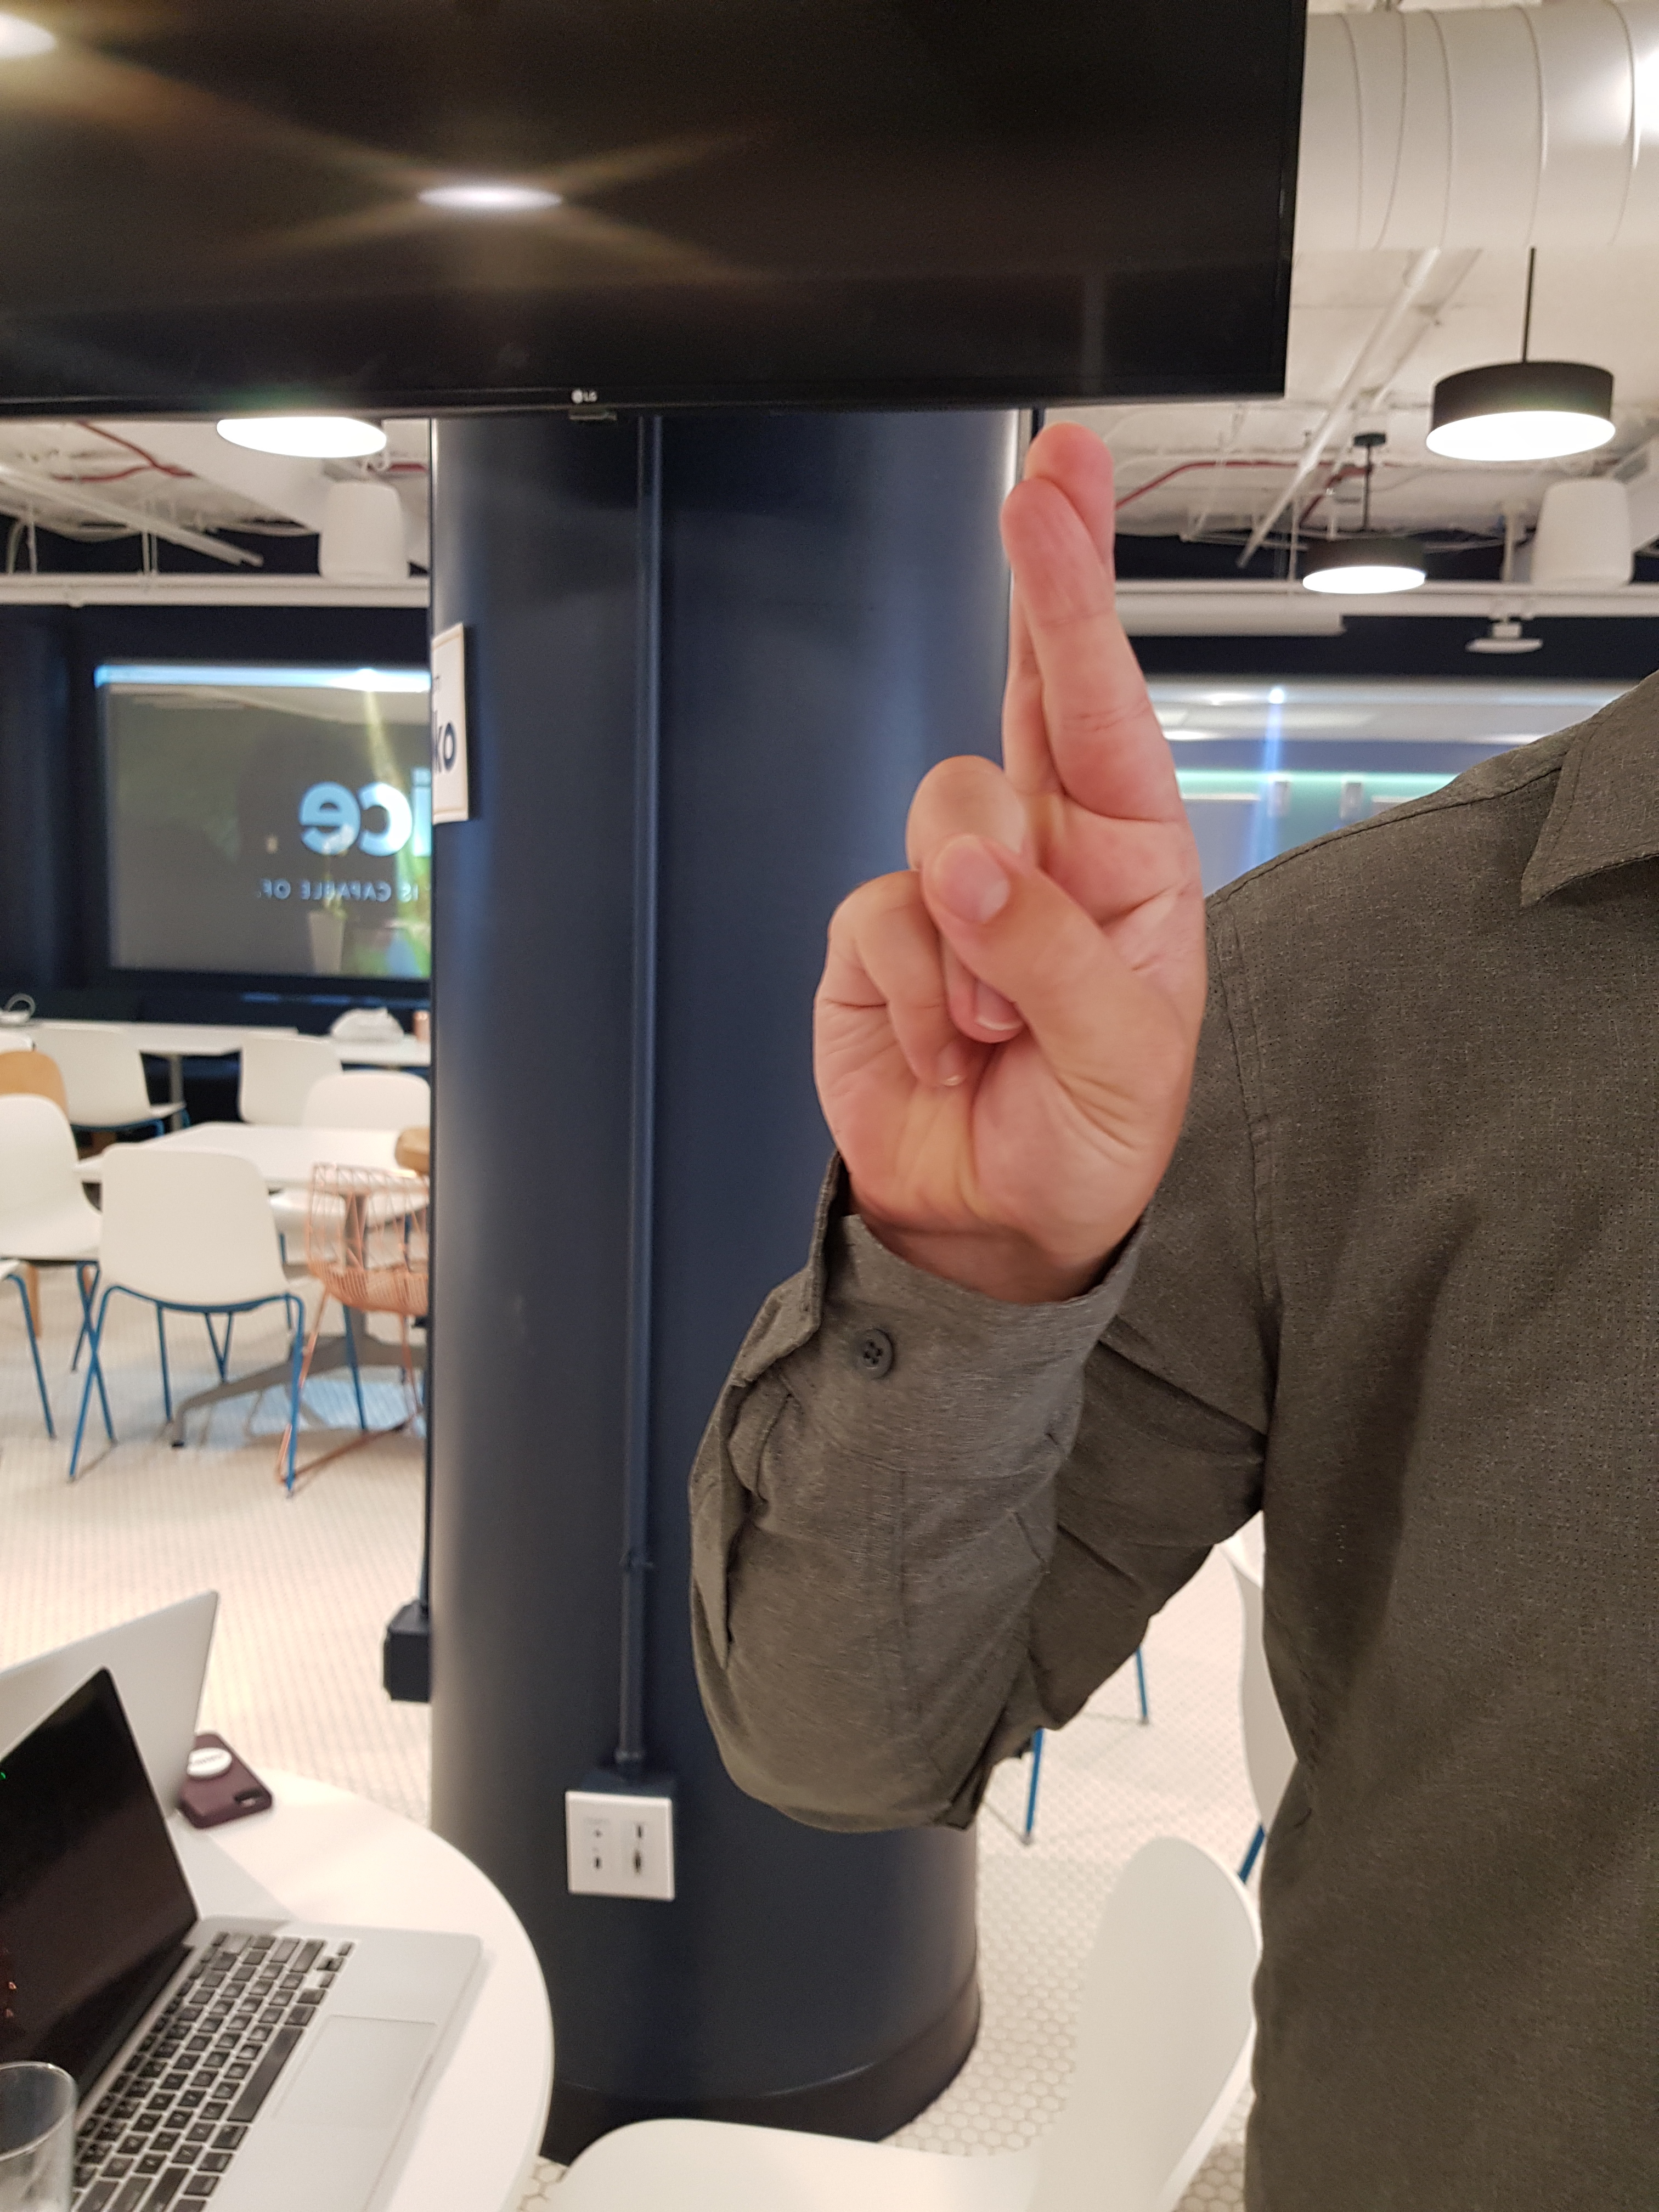r: (727, 387, 1263, 1318)
